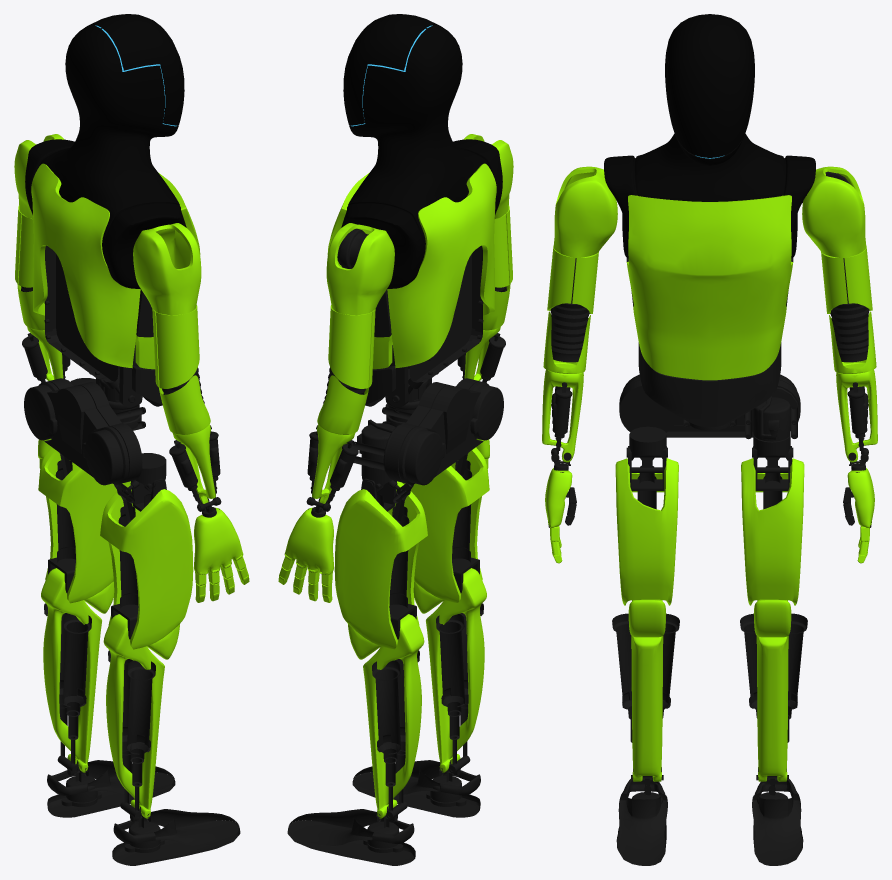
File: content-crafter.glb
The picture shows the model from 3 angles, left to right: view 1: azimuth 30°, elevation 25°; view 2: azimuth 150°, elevation 25°; view 3: azimuth 270°, elevation 25°; orthographic projection.
Parts seen in each view (by area): view 1: Cube.001; view 2: Cube.001; view 3: Cube.001.
Boxes of the visible parts, box(x1,y1,x2,y2) form: Cube.001: box(14, 14, 249, 865); Cube.001: box(278, 14, 513, 865); Cube.001: box(542, 14, 877, 865).
Size of the model in its own units: 0.3406 by 1.7 by 0.6396.
